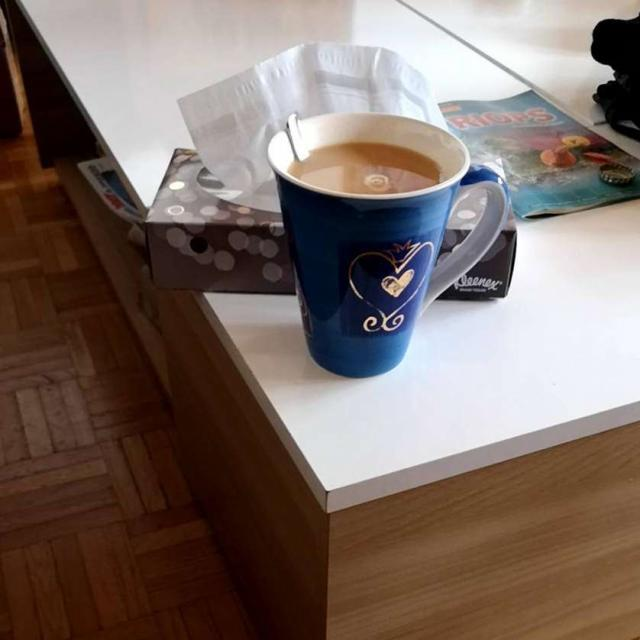tea: (282, 133, 434, 205)
